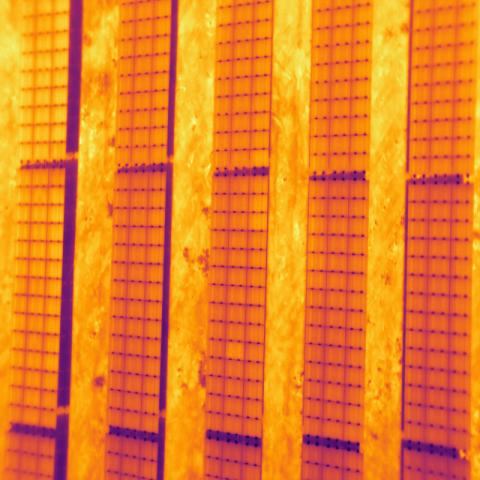fault: (225, 340, 246, 361)
